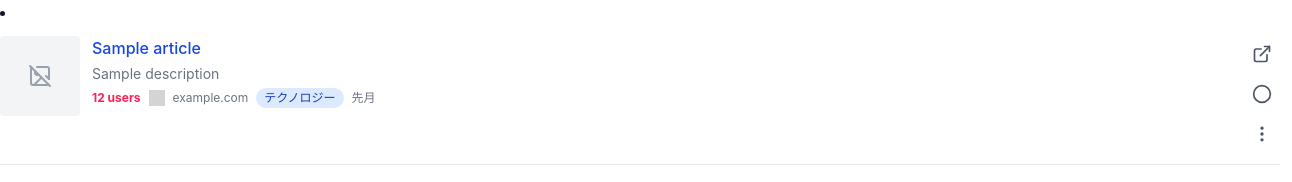
Test: tap navigation › leaves for the official bookmark page when that target is set
Click the text "Sample description" at [156, 74], box [92,65,219,82]
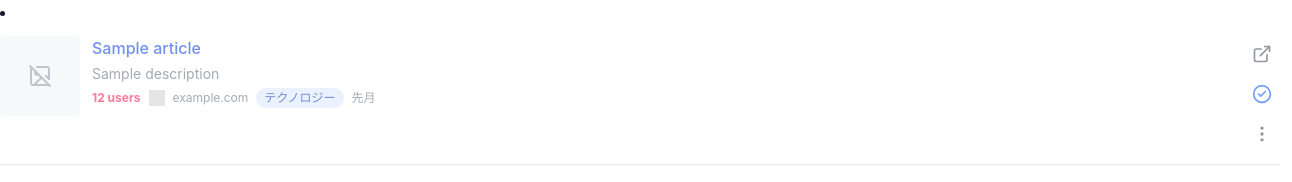
Expected: the button named "未読に戻す" is shown, [1244,76,1280,112]
